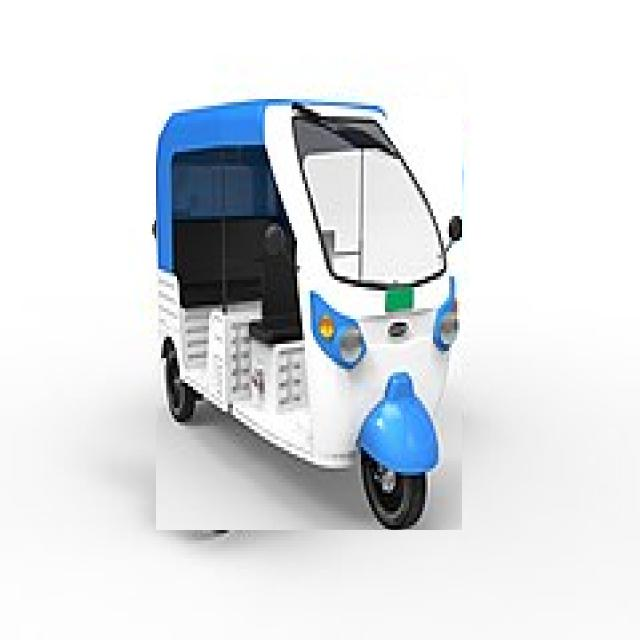autorickshaw: (156, 100, 461, 530)
